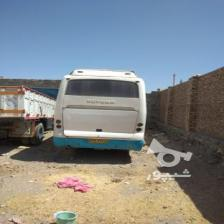plate: (85, 139, 108, 142)
